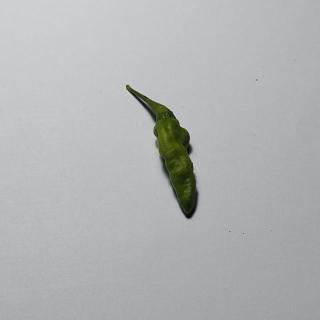Cabai Hijau: (118, 79, 216, 223)
